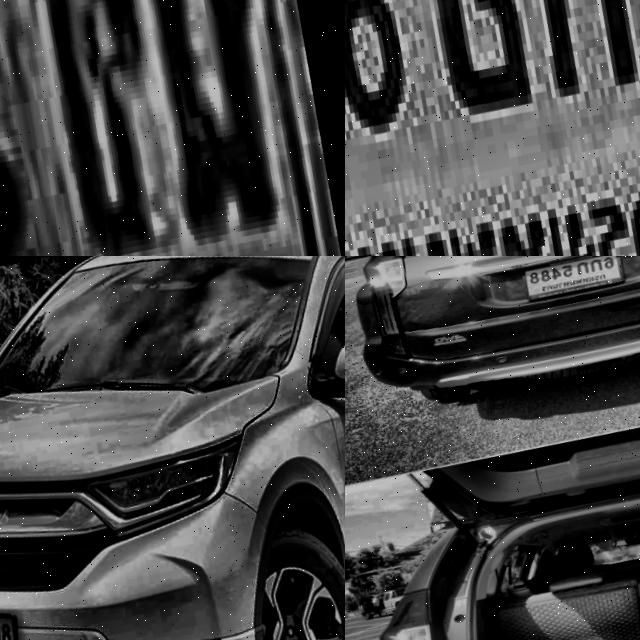license-plate: (0, 0, 345, 256), (345, 0, 640, 256), (521, 256, 626, 303)
